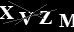M: (58, 13, 74, 28)
V: (17, 11, 33, 26)
X: (1, 4, 14, 20)
Z: (38, 11, 53, 25)
